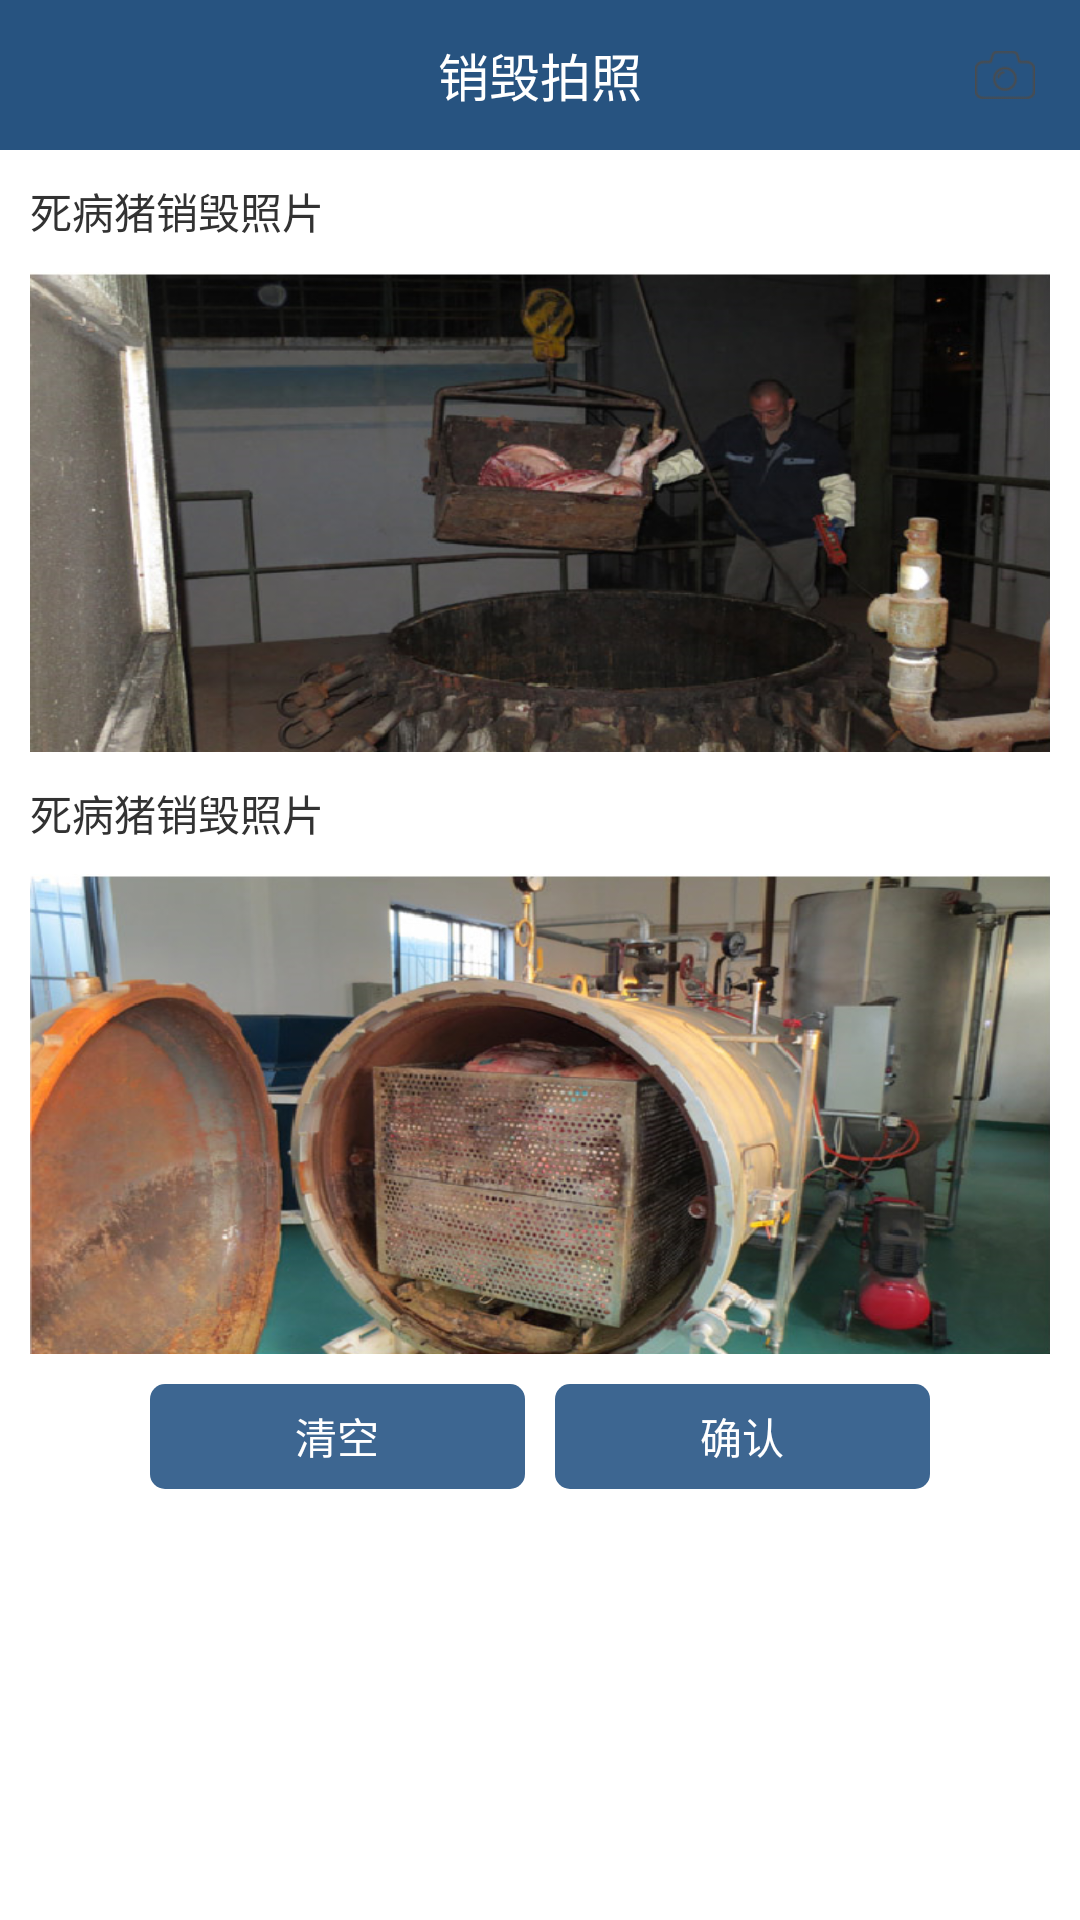

Point at icon controls on the screen. Image size 1080*1920, points as (x=x, y=y).
camera: (x=1005, y=75)
